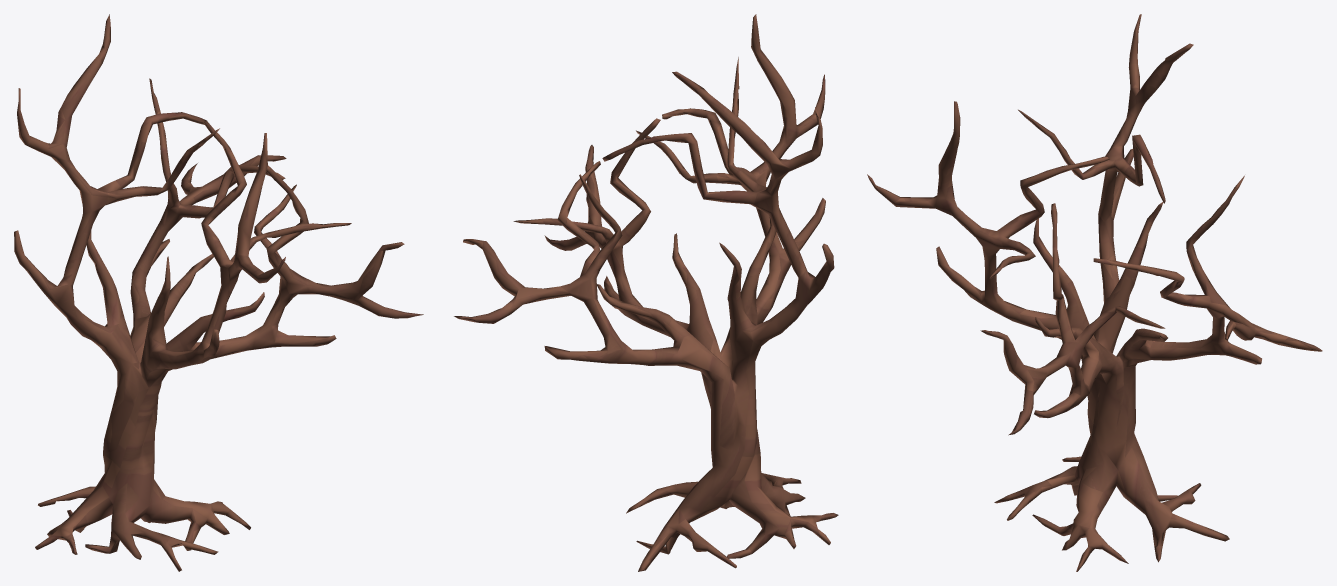
The model's file is Tree2.fbx.
3 views of the same model, side by side, from view 1: azimuth 30°, elevation 25°; view 2: azimuth 150°, elevation 25°; view 3: azimuth 270°, elevation 25° (orthographic).
Parts seen in each view (by area): view 1: Tree2; view 2: Tree2; view 3: Tree2.
Part boxes in pixels (x1,y1,x2,y2): Tree2: [14, 14, 423, 571]; Tree2: [454, 14, 838, 571]; Tree2: [867, 14, 1322, 571].
Size of the model in its own units: 241 by 330 by 275.
1 material, 1 textured.
